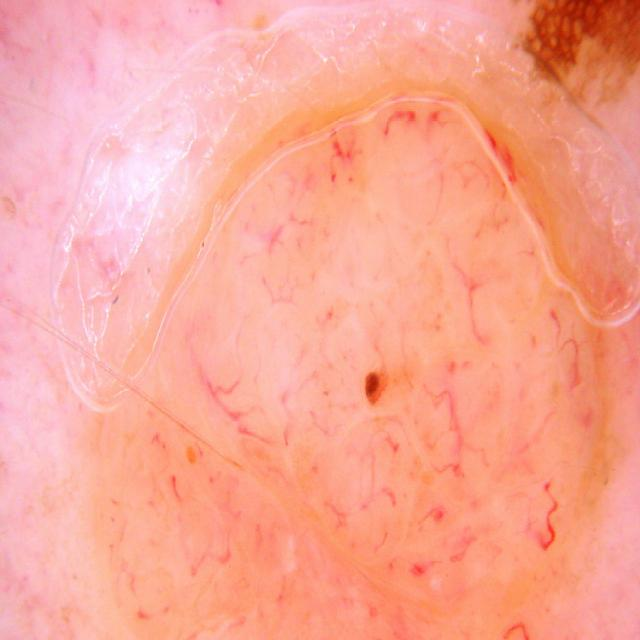Melanoma: (100, 153, 613, 640)
